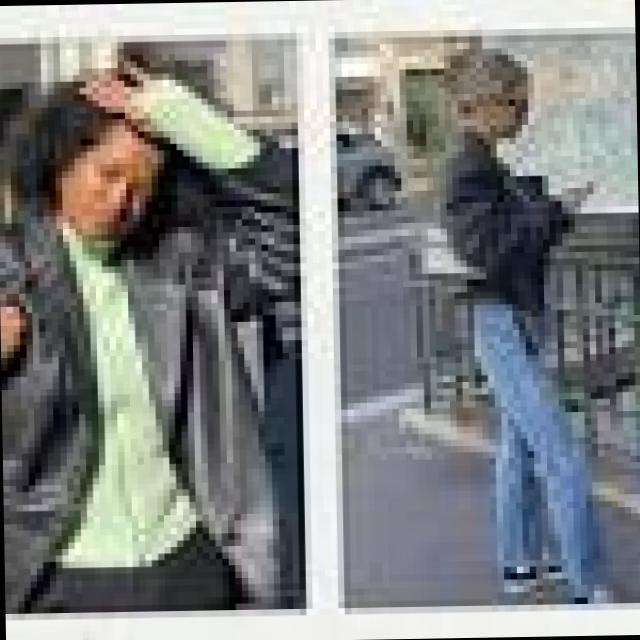Jacket: (0, 141, 308, 615)
